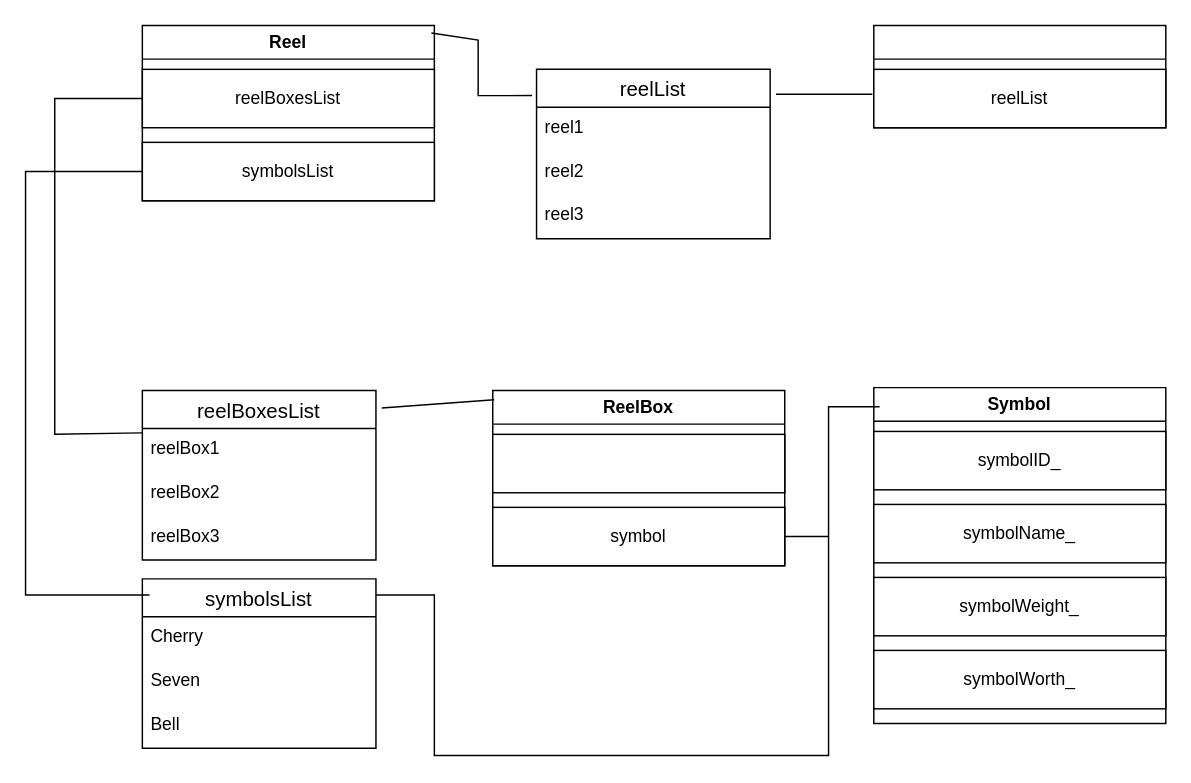
Some shapes in this 1191 by 783 pixel diagram are drawn without their labels. The box of each missing label's shape, as (x1, y1, x2, y2) in pixels:
reelBoxID_: (491, 433, 785, 493)
Slot: (872, 24, 1166, 128)
